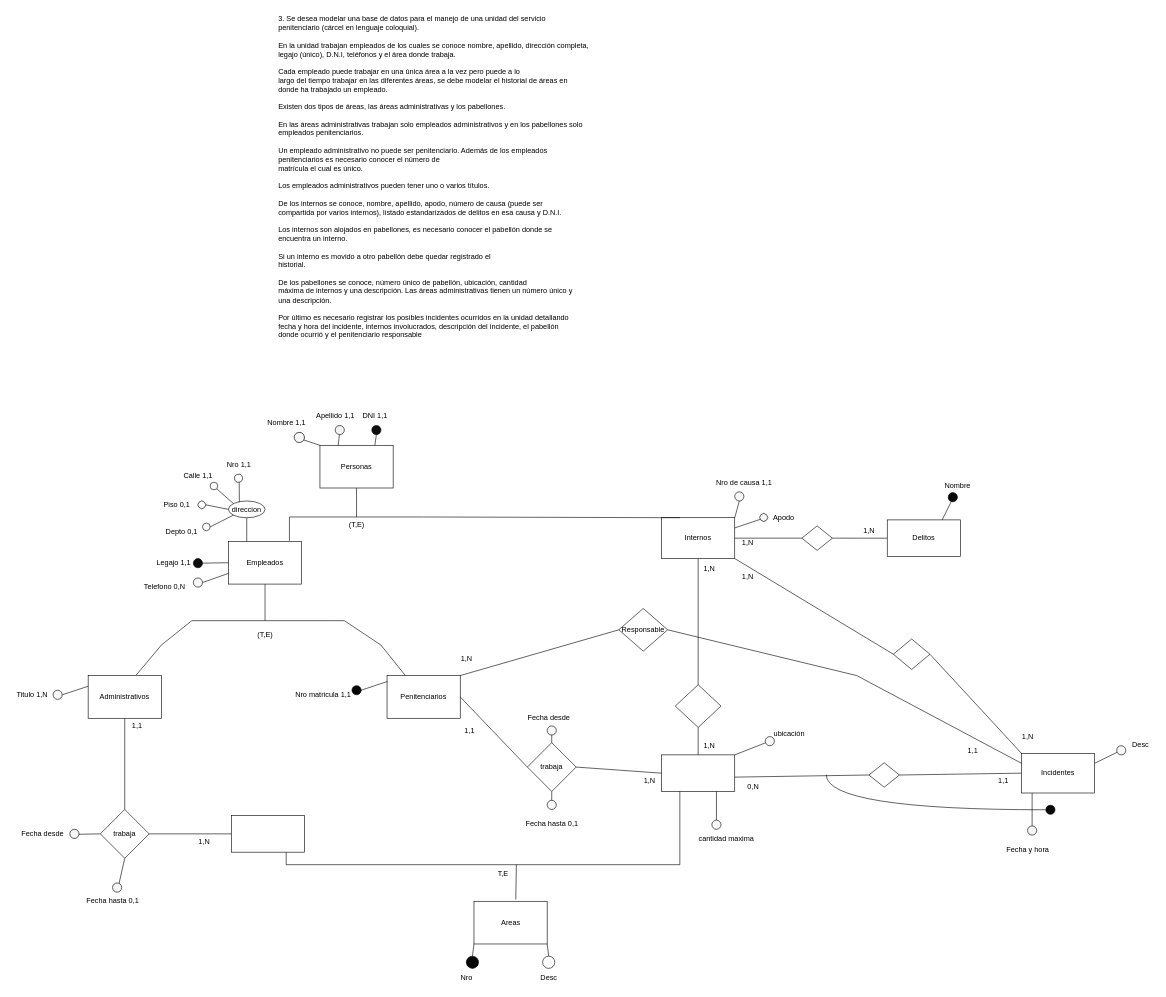
Image size: 1166x997. Some labels were removed from this diagram. The centre of each missing label's shape, as x and y in pixels:
"aloja" goes at point (698, 705).
"Areas Administrativas" goes at point (268, 833).
"ocurre" goes at point (883, 774).
"Pabellones" goes at point (698, 772).
"Provoca" goes at point (911, 653).
"tiene" goes at point (816, 537).
